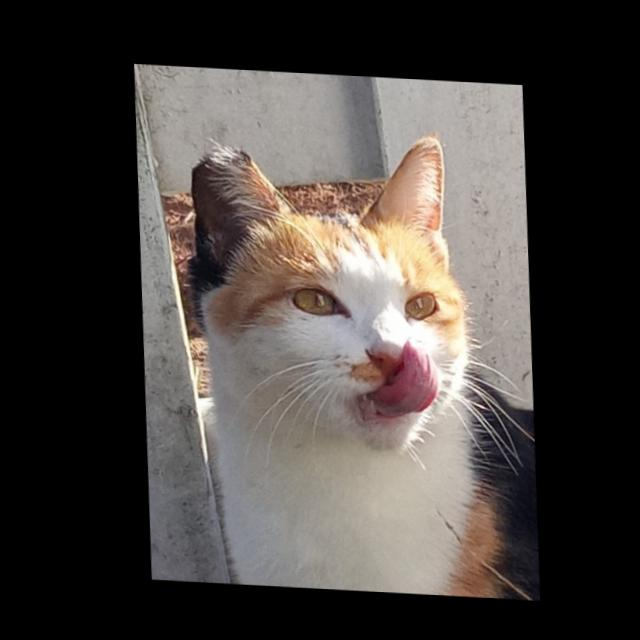animals: (174, 115, 484, 458)
